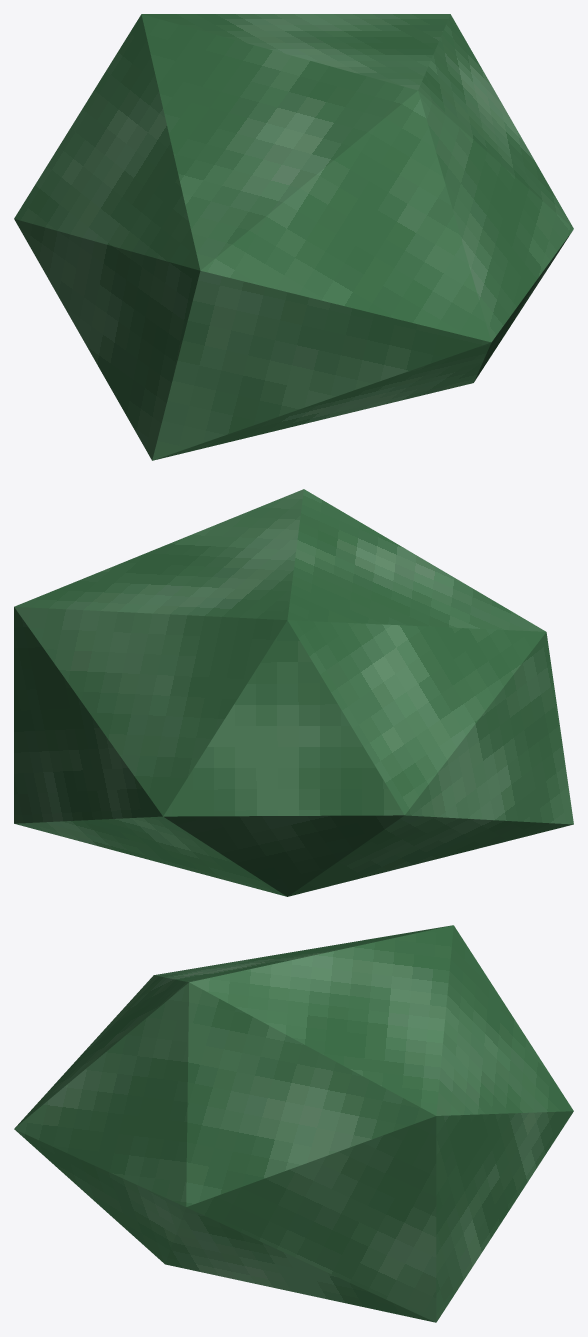
The model's file is bush1_fbx.fbx.
3 views of the same model, one above another, from view 1: azimuth 30°, elevation 25°; view 2: azimuth 150°, elevation 25°; view 3: azimuth 270°, elevation 25° (orthographic). The views are drawn at different scales.
Visible parts, largest first — view 1: bush1; view 2: bush1; view 3: bush1.
Boxes of the visible parts, left/top/right/bottom form: bush1: left=14, top=14, right=573, bottom=460; bush1: left=14, top=489, right=573, bottom=896; bush1: left=14, top=925, right=573, bottom=1322.
Bounding box in the file's own units: 144 × 90.99 × 173.
Materials: 1 (1 with a texture image).
